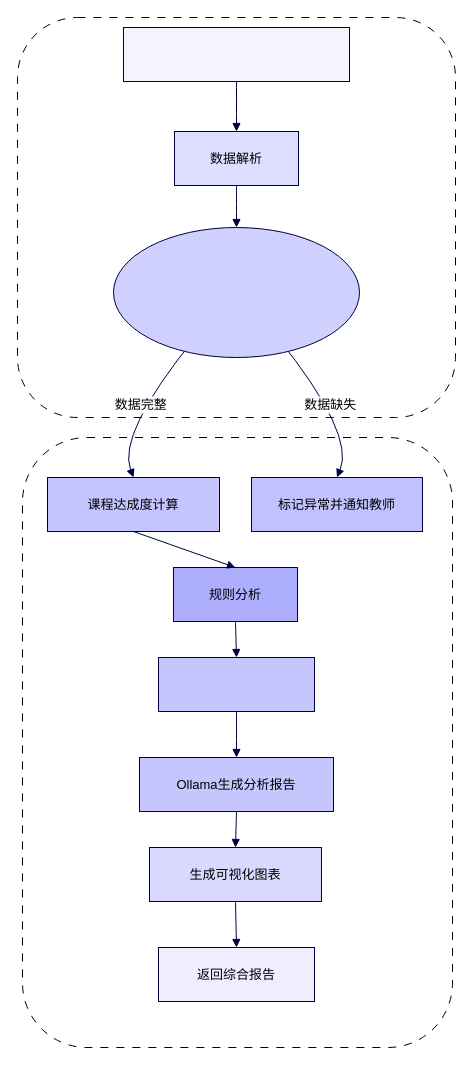
Image size: 473x1065. Some labels were removed from this diagram. The shapes that lost their labels are listed below. From the top down, each one's centre as x and y in pixels, then its label:
At point (236, 54): "教师上传学生成绩Excel".
At point (236, 292): "数据完整性检查".
At point (236, 684): "检索关联文档".
